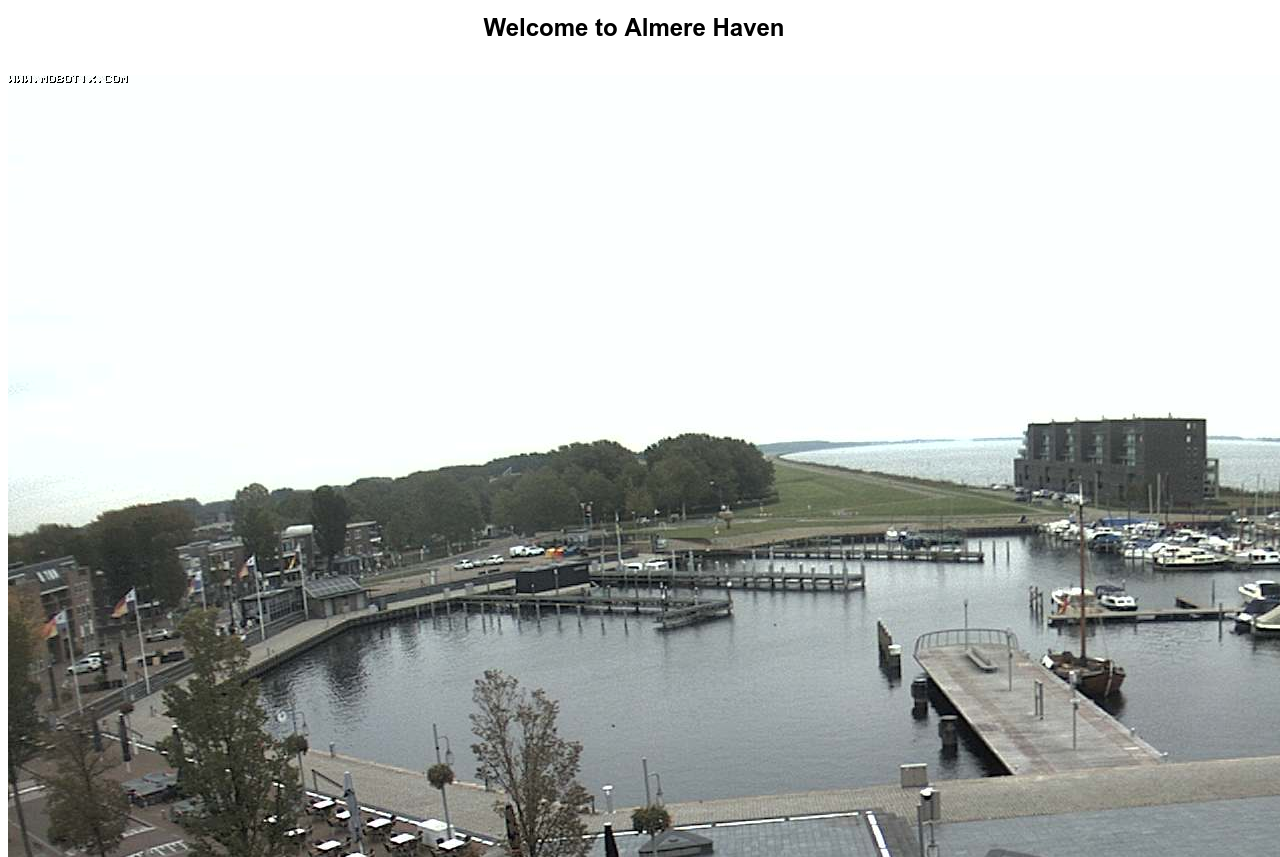maybe: (282, 545, 304, 575)
yes: (41, 608, 75, 643), (109, 590, 141, 620), (233, 551, 258, 580), (182, 569, 205, 597)
